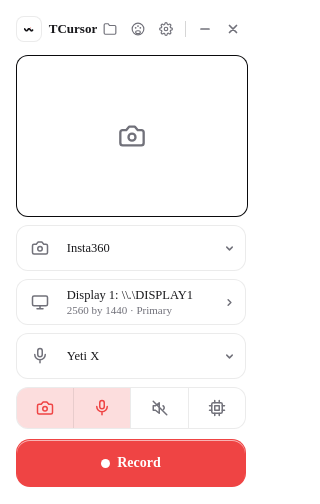
Scenario: IdleCard › toggles report their key; the system cluster hides its three app buttons while exporting
The width and height of the screenshot is (320, 504).
Click the button named "System audio": (159, 408) [130,388,188,428]
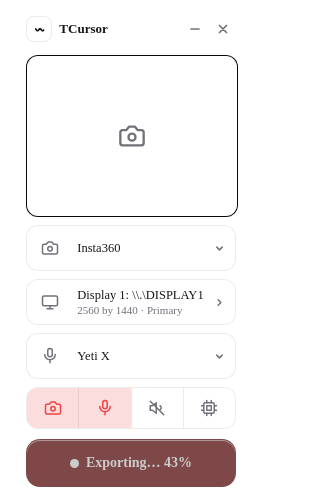
expect the button with class "rec" is disabled: met, box [26,439,236,487]
expect the button with class "rec" reads "Exporting… 43%": met, box [26,439,236,487]
